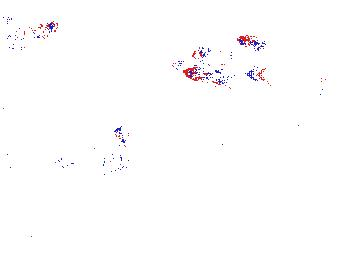X-ray fish: (58, 142, 132, 177), (110, 122, 130, 148)
red belly glassfish: (235, 35, 266, 52)
redtail glassfish: (1, 12, 60, 58), (182, 63, 271, 90), (290, 112, 346, 142), (170, 50, 241, 72), (315, 64, 346, 95)
